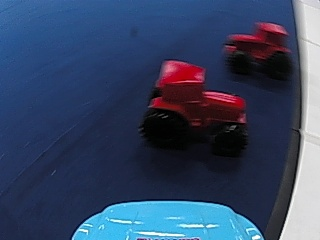tractor: (142, 54, 250, 154), (220, 18, 296, 80)
